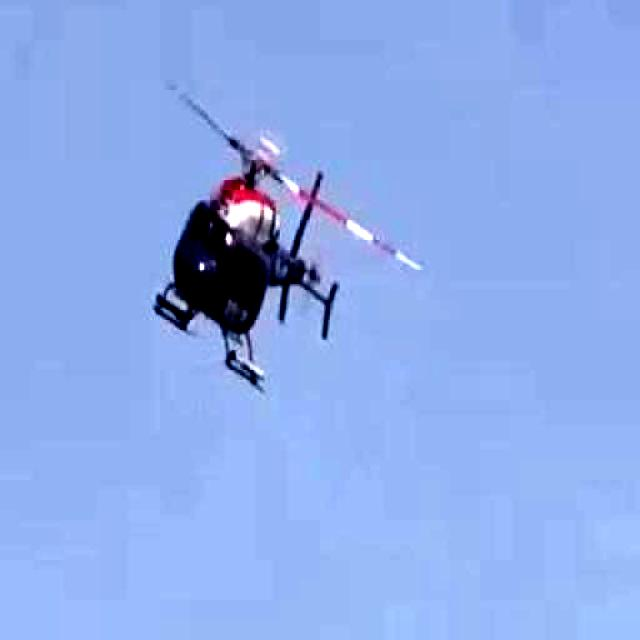drone: (39, 21, 402, 431)
